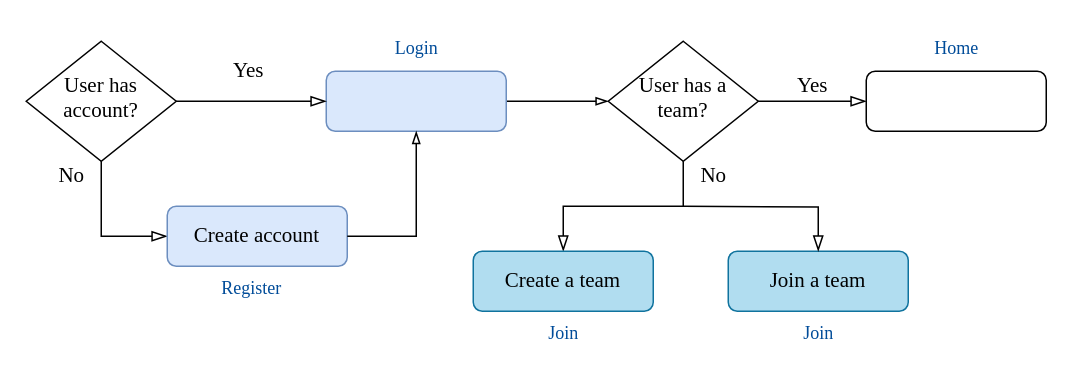
Some shapes in this 1073 by 381 pixel diagram are drawn without their labels. The shapes that lost their labels are listed below. From the top down, each one's centre as x and y in pixels, then its label:
At point 415,100: "Log into account".
At point 955,100: "Home Page".
